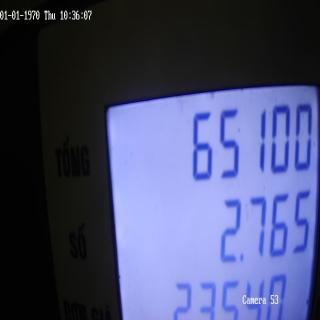screen: (95, 60, 316, 320)
